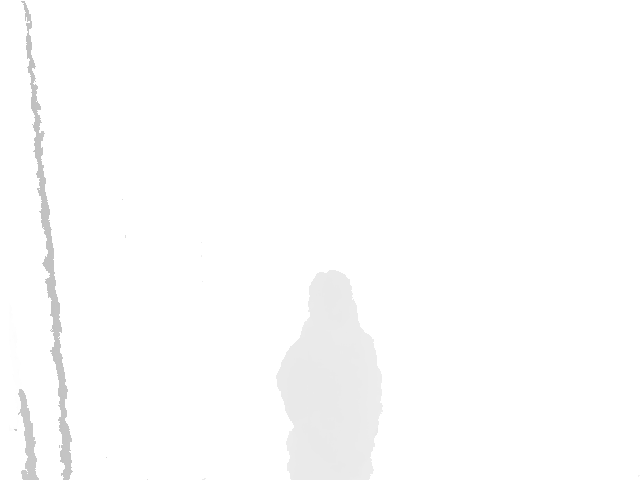head: (307, 269, 359, 337)
person: (275, 269, 383, 480)
